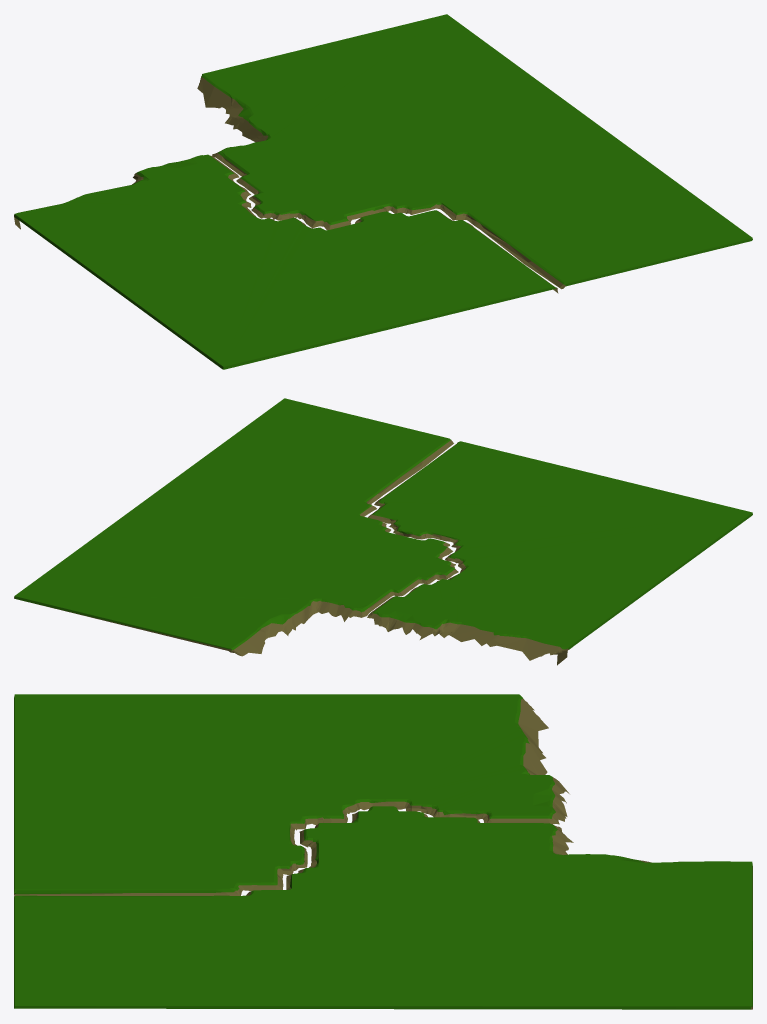
Rendered from floor.fbx.
3 renders of one model, top to bottom at view 1: azimuth 30°, elevation 25°; view 2: azimuth 150°, elevation 25°; view 3: azimuth 270°, elevation 25°, orthographic. The views are drawn at different scales.
Visible parts, largest first — view 1: Terrain.004; view 2: Terrain.004; view 3: Terrain.004.
Boxes of the visible parts, x1=… form: Terrain.004: x1=14, y1=14, x2=752, y2=369; Terrain.004: x1=14, y1=398, x2=752, y2=665; Terrain.004: x1=14, y1=694, x2=752, y2=1009.
Size of the model in its own units: 119 by 119 by 4.45.
